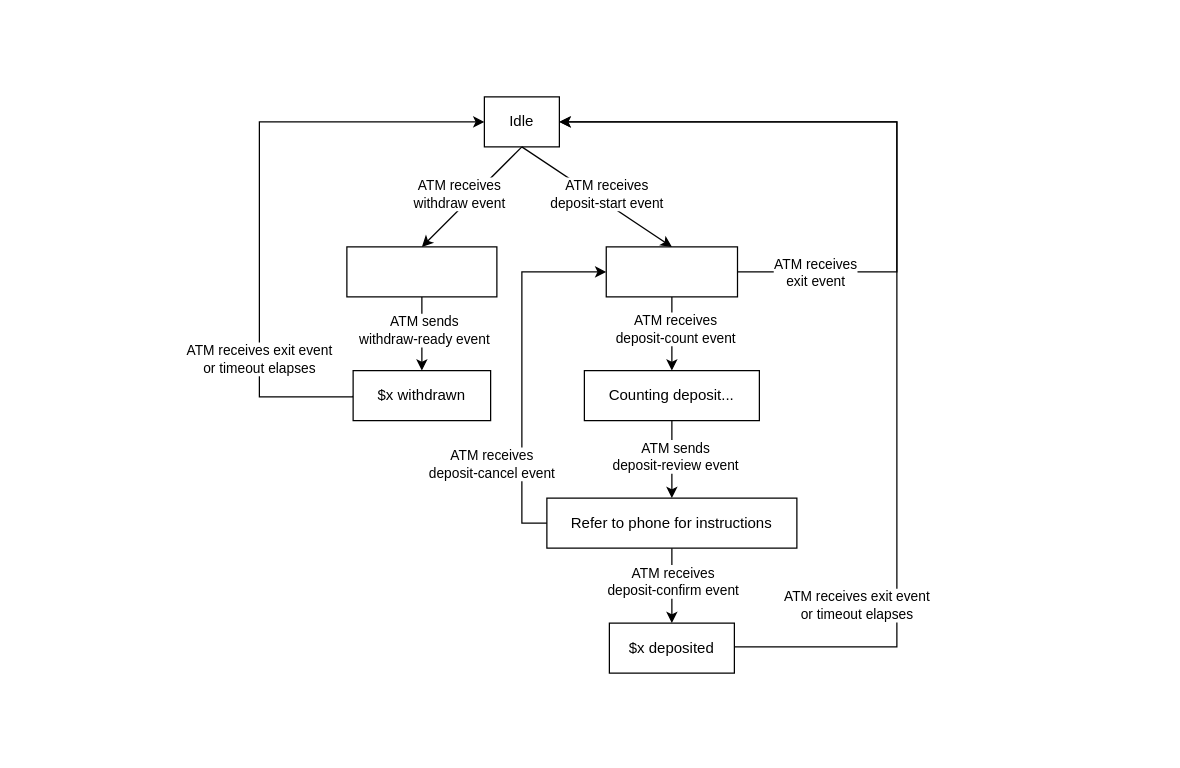
Image size: 1180x768. Some labels were removed from this diagram. The centre of each missing label's shape, as x and y in pixels:
"Deposit cash" goes at point (671, 271).
"Withdrawing..." goes at point (421, 271).
